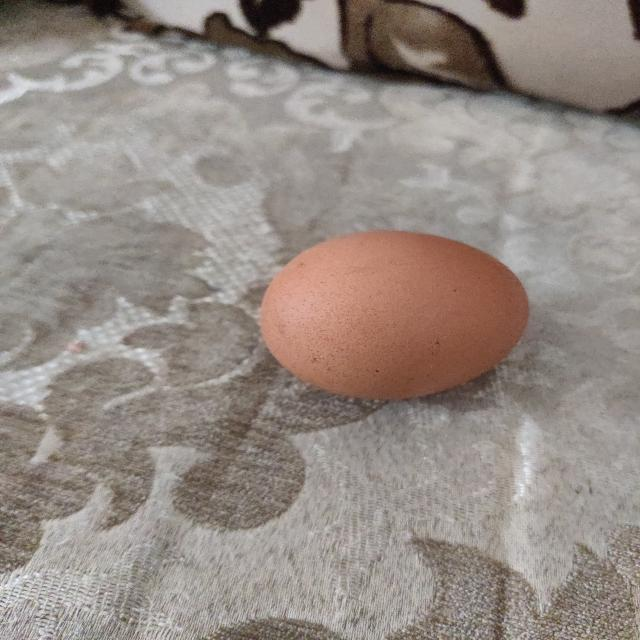Egg: (258, 228, 531, 399)
